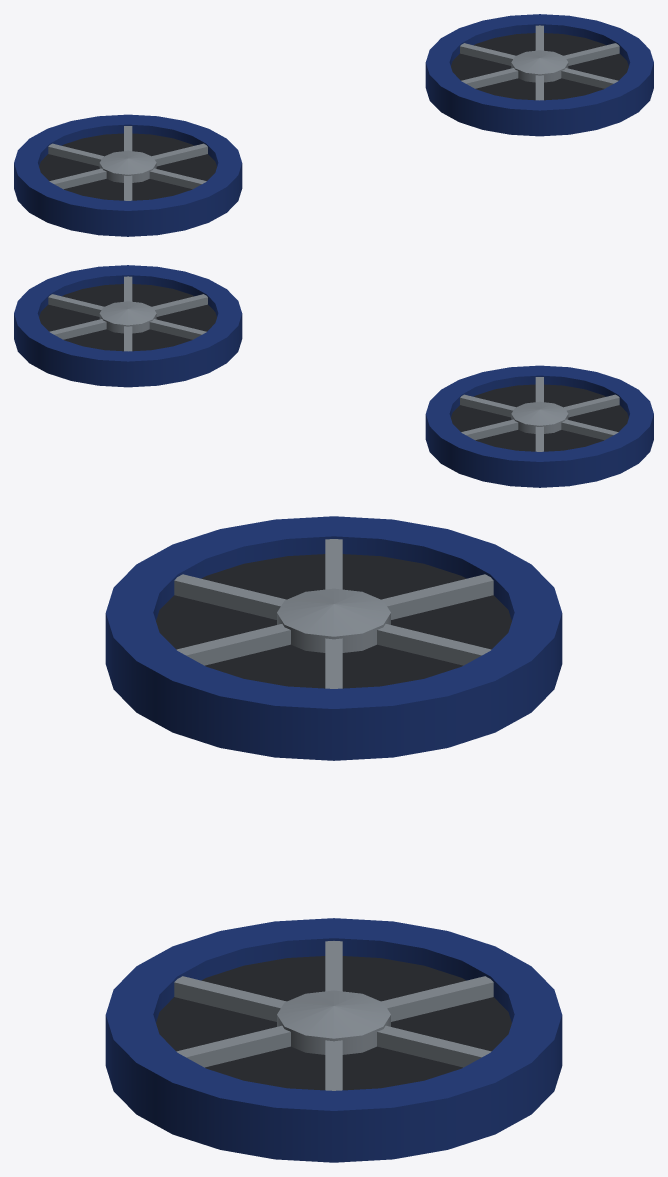
Rendered from l4_fan.obj.
The picture shows the model from 3 angles, top to bottom: view 1: azimuth 30°, elevation 25°; view 2: azimuth 150°, elevation 25°; view 3: azimuth 270°, elevation 25°; orthographic projection. The views are drawn at different scales.
Visible parts, largest first — view 1: l4_fan; view 2: l4_fan; view 3: l4_fan.
Boxes of the visible parts, bbox=[...] form: l4_fan: bbox=[14, 14, 653, 236]; l4_fan: bbox=[14, 265, 653, 487]; l4_fan: bbox=[105, 516, 562, 1162].
Bounding box in the file's own units: 1.48 × 0.07 × 0.48.
